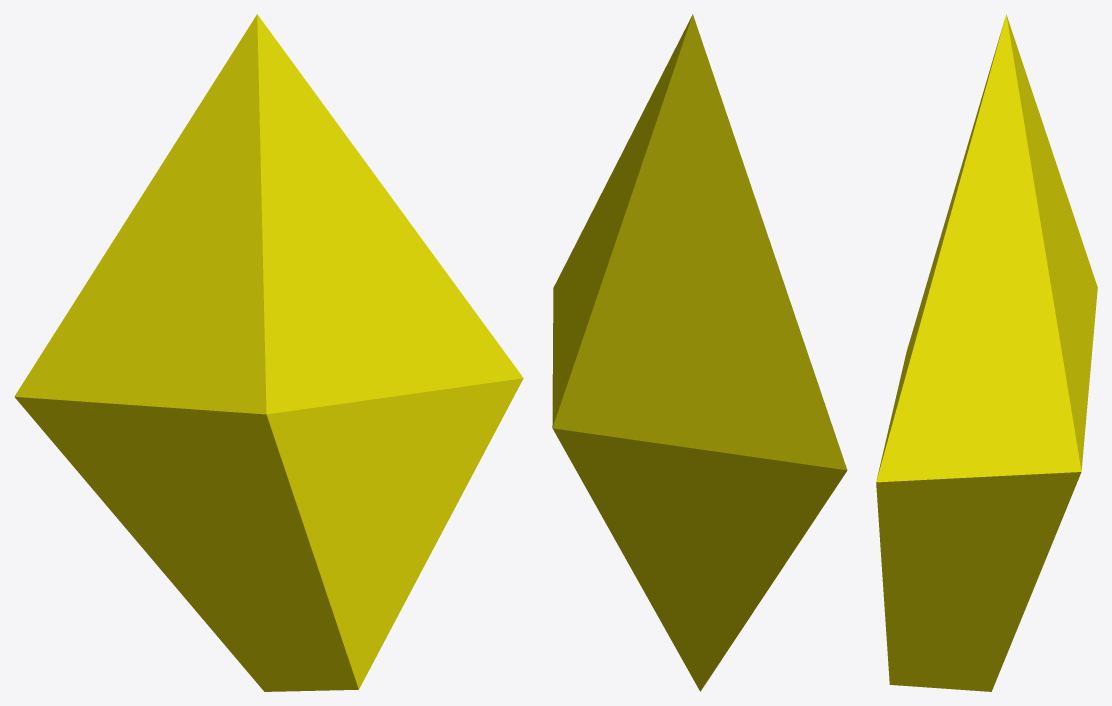
The model's file is FirePX.fbx.
The picture shows the model from 3 angles, left to right: view 1: azimuth 30°, elevation 25°; view 2: azimuth 150°, elevation 25°; view 3: azimuth 270°, elevation 25°; orthographic projection.
Visible parts, largest first — view 1: FirePX; view 2: FirePX; view 3: FirePX.
Part boxes in pixels (<box>): FirePX: <box>14,14,523,691</box>; FirePX: <box>552,14,847,691</box>; FirePX: <box>876,14,1097,691</box>.
Size of the model in its own units: 134 by 216 by 64.03.
